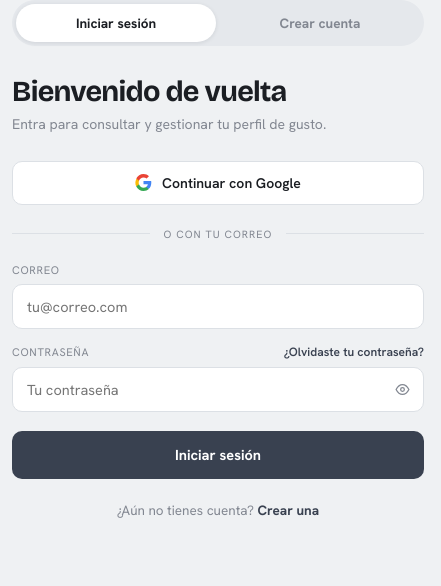
Scenario: AuthForm › distingue la configuración ausente de un fallo de red
The image size is (441, 586).
Type "a@b.com" into the field with placeholder "tu@correo.com" at {"x": 218, "y": 306}, box [12, 284, 424, 329]
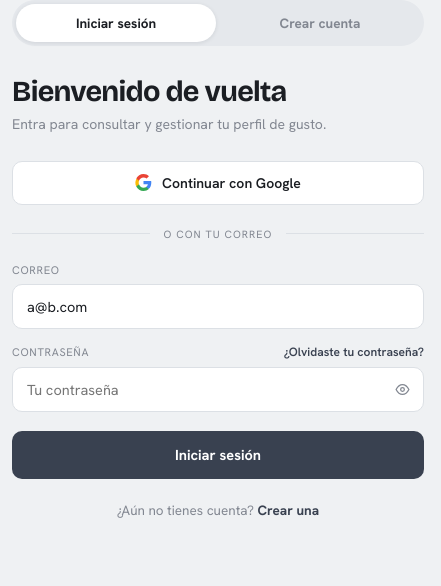
Type "12345678" into the password field with placeholder "tu contraseña" at {"x": 218, "y": 389}, box [12, 367, 424, 412]
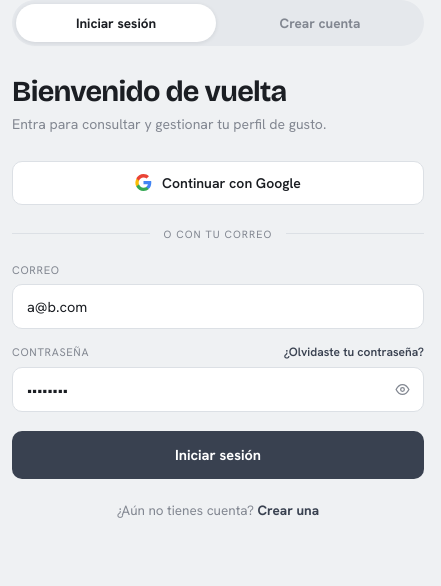
Submit the form, box [12, 263, 424, 479]
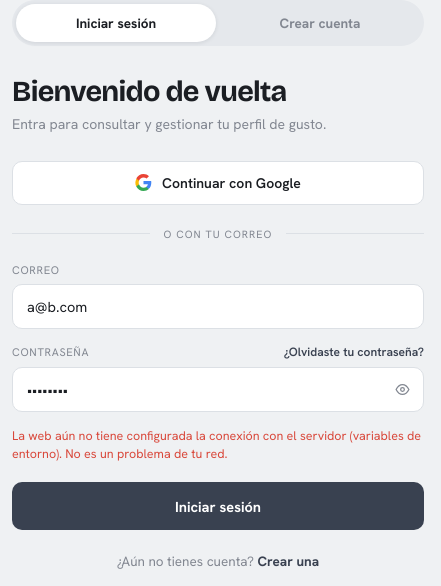
Result: the text "no tiene configurada la conexión" is shown at [12, 427, 421, 462]
